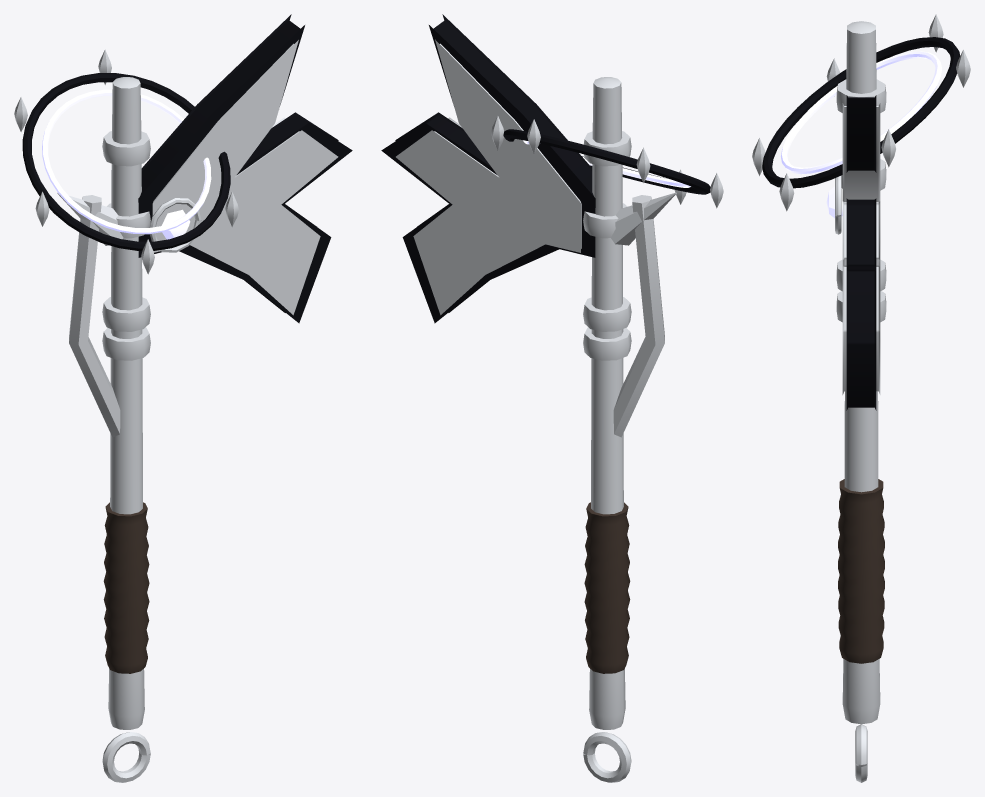
The model's file is esc_w_knight_axe_5.glb.
The picture shows the model from 3 angles, left to right: view 1: azimuth 30°, elevation 25°; view 2: azimuth 150°, elevation 25°; view 3: azimuth 270°, elevation 25°; orthographic projection. The views are drawn at different scales.
Visible parts, largest first — view 1: esc_w_knight_axe_5; view 2: esc_w_knight_axe_5; view 3: esc_w_knight_axe_5.
Part boxes in pixels (box(x1,y1,x2,y2)): esc_w_knight_axe_5: box(14, 14, 352, 782); esc_w_knight_axe_5: box(381, 14, 723, 782); esc_w_knight_axe_5: box(752, 14, 970, 782).
Bounding box in the file's own units: 0.4679 × 1 × 0.2559.
